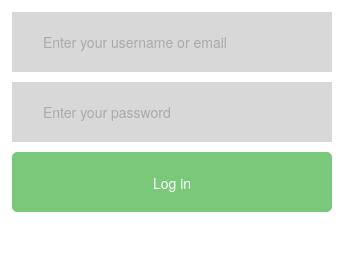
LoginForm › shows an error toast and stays on the page when login fails
Type "ada" into the field labelled "username or email" at (172, 42), box x1=12 y1=12 x2=332 y2=72
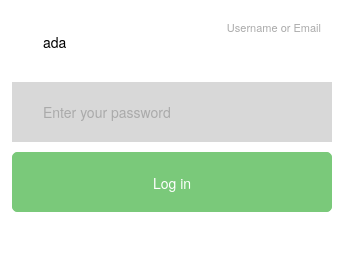
Type "password1" into the password field labelled "password" at (172, 112), box x1=12 y1=82 x2=332 y2=142
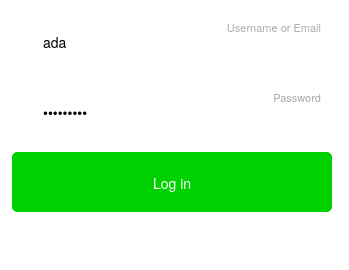
Now the button "Log in" is enabled
Click the button "Log in" at (172, 182), box x1=12 y1=152 x2=332 y2=212
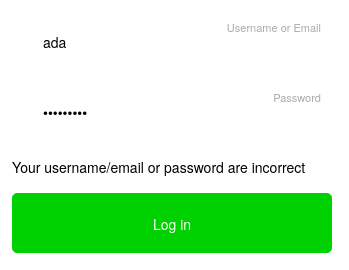
Now the button "Log in" is enabled, box x1=12 y1=193 x2=332 y2=253
Now the text "Your username/email or password are incorrect" is shown, box x1=12 y1=157 x2=332 y2=178
